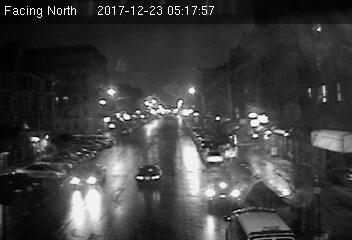car: (206, 177, 242, 210), (70, 163, 107, 189), (135, 163, 162, 183), (202, 148, 222, 164)
police: (223, 204, 296, 240)
